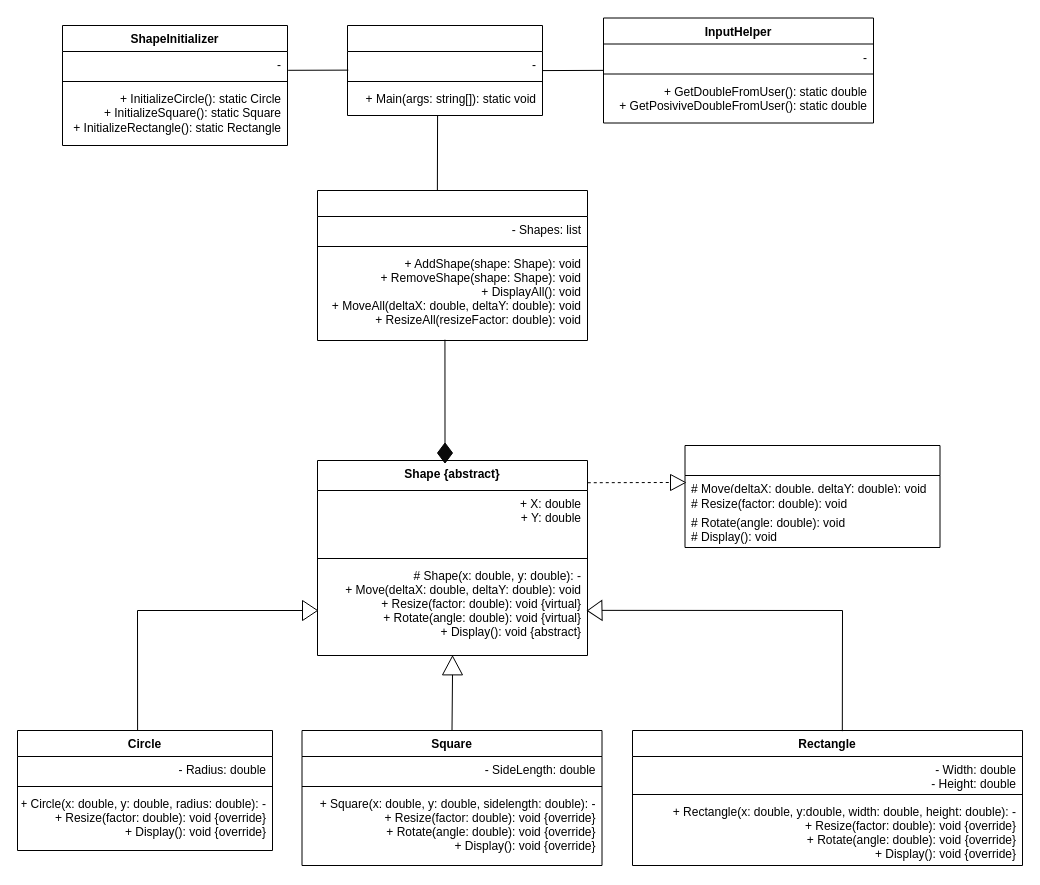
The diagram is 1040 pixels wide and 885 high, and some of its shapes have lost their labels. Here are the shapes that lost their labels. From the top down, the box of each, then its label:
(346, 24, 542, 116): Program
(316, 190, 588, 340): ShapeManager
(684, 444, 940, 548): <<interface>> IShape
